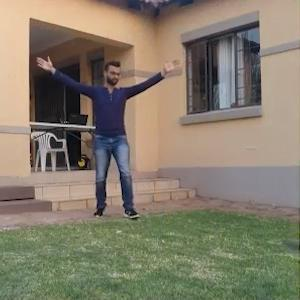takeoff: (60, 40, 206, 226)
